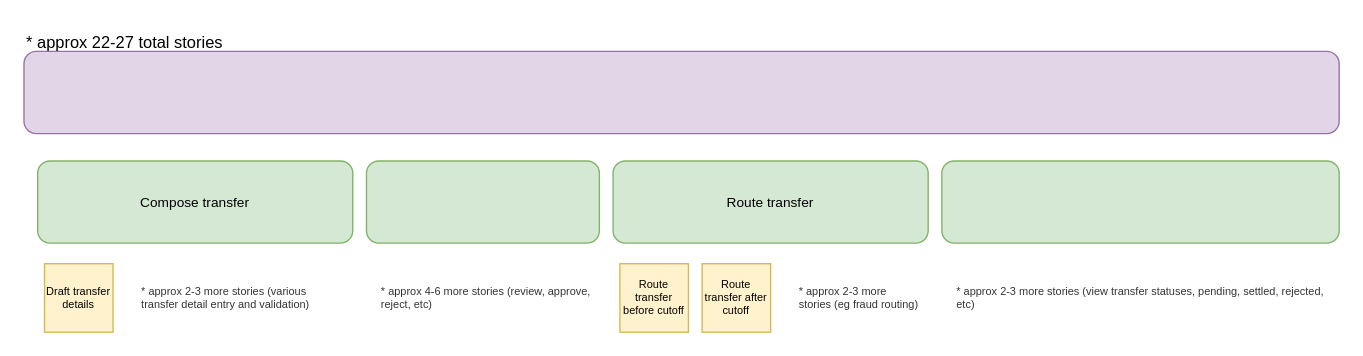
Image size: 1363x356. Some labels were removed from this diagram. The shapes that lost their labels are listed below. From the top down, each one's box as (x1, y1, x2, y2) in pixels, then its label:
(23, 50, 1339, 134): Move money
(365, 160, 599, 243): Approve transfer
(941, 160, 1339, 243): Track transfer
